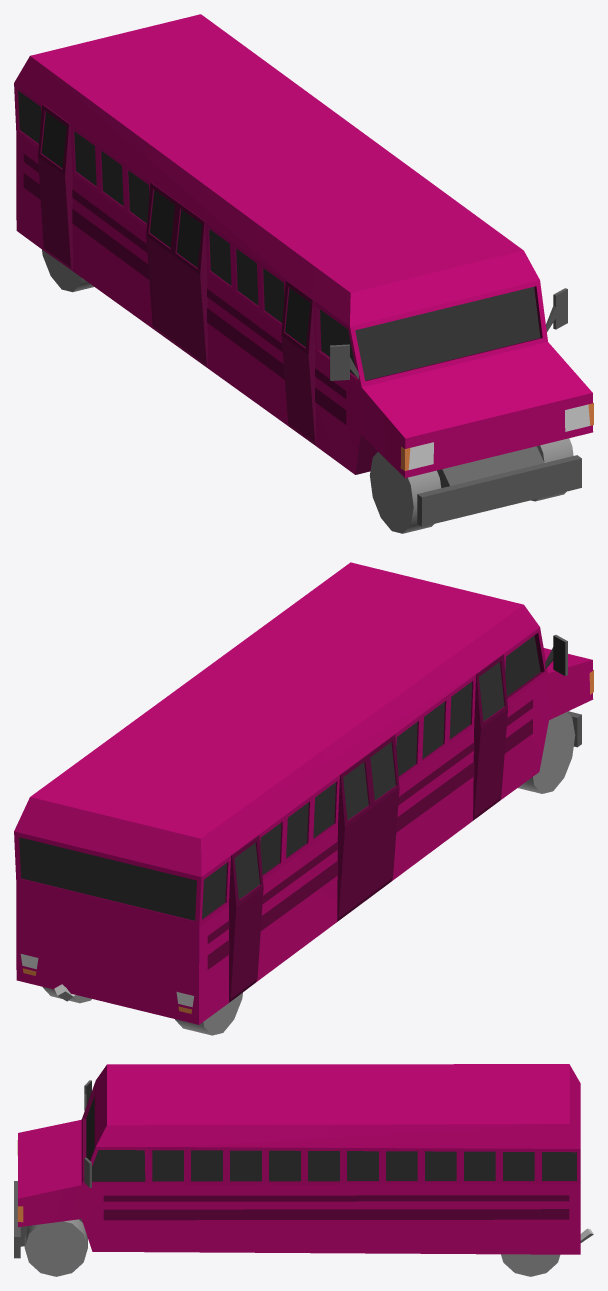
File: bus_06.fbx
3 views of the same model, one above another, from view 1: azimuth 30°, elevation 25°; view 2: azimuth 150°, elevation 25°; view 3: azimuth 270°, elevation 25° (orthographic). The views are drawn at different scales.
Visible parts, largest first — view 1: bus_06; view 2: bus_06; view 3: bus_06.
Boxes of the visible parts, x1,y1,x2,y2 form: bus_06: [14, 14, 593, 533]; bus_06: [14, 562, 593, 1035]; bus_06: [14, 1064, 593, 1276].
Bounding box in the file's own units: 2.77 × 2.39 × 8.14.
